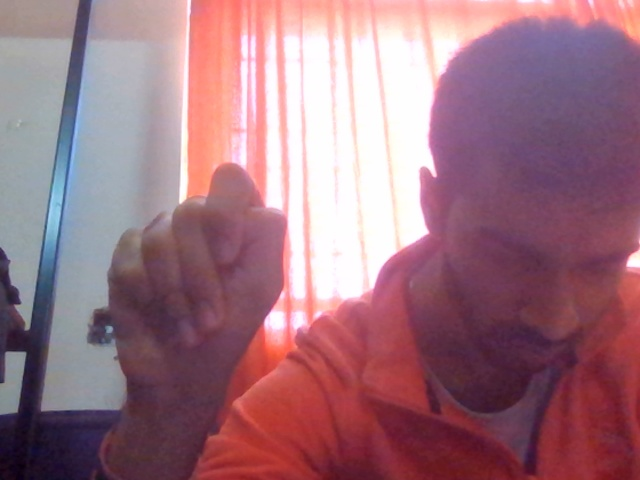T: (86, 120, 322, 478)
